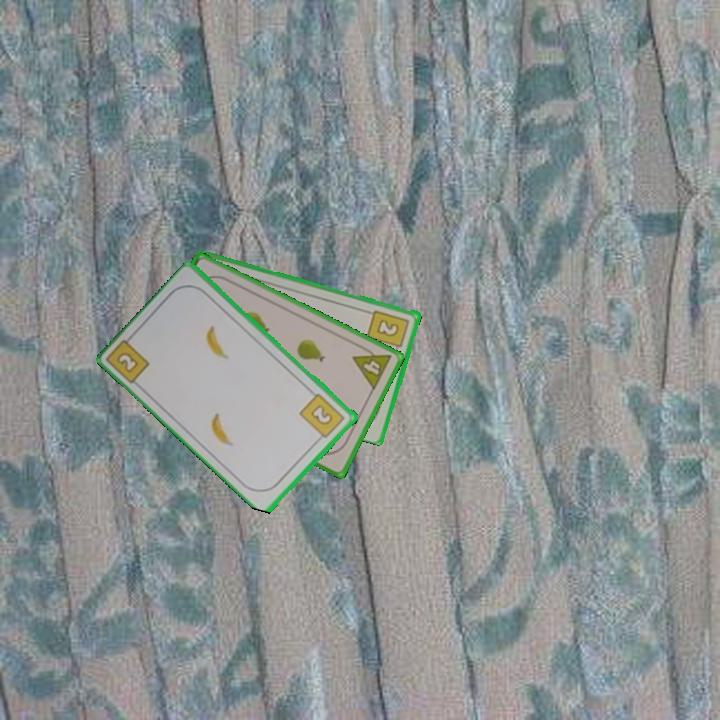2b: (296, 390, 348, 444), (105, 331, 153, 387), (364, 306, 412, 356)
4p: (349, 341, 395, 393)
